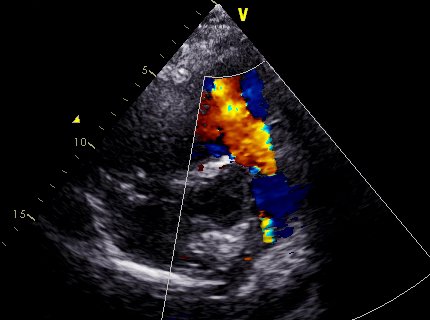PR: (220, 112, 283, 176)
